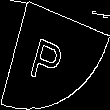P_N: (35, 25, 75, 85)
